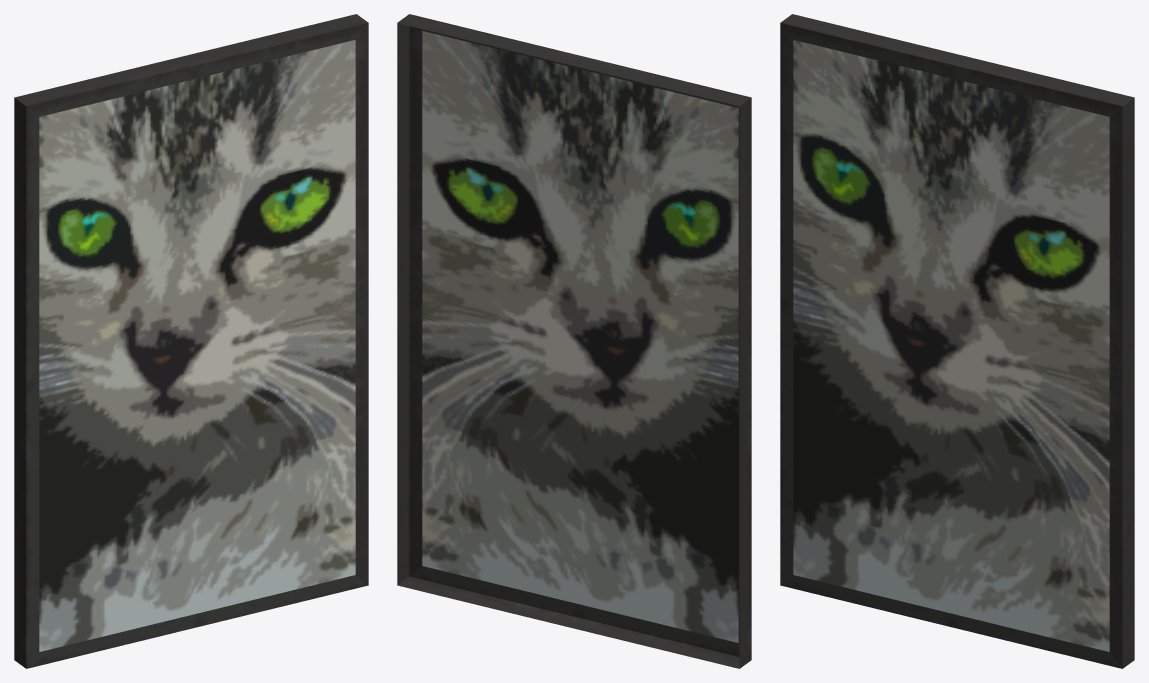
Rendered from paint_10.fbx.
3 renders of one model, left to right at view 1: azimuth 30°, elevation 25°; view 2: azimuth 150°, elevation 25°; view 3: azimuth 330°, elevation 25°, orthographic.
Visible parts, largest first — view 1: pCube10; view 2: pCube10; view 3: pCube10.
Part boxes in pixels (x1,y1,x2,y2): pCube10: (14,14,368,668); pCube10: (397,14,751,668); pCube10: (780,14,1134,668).
Size of the model in its own units: 79.88 by 125 by 4.93.
